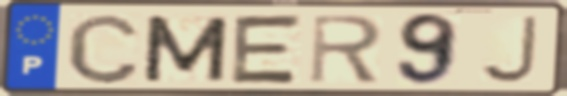9: (395, 10, 463, 89)
C: (64, 11, 143, 87)
E: (225, 12, 307, 86)
J: (476, 14, 541, 86)
M: (139, 13, 232, 84)
R: (306, 12, 386, 86)
